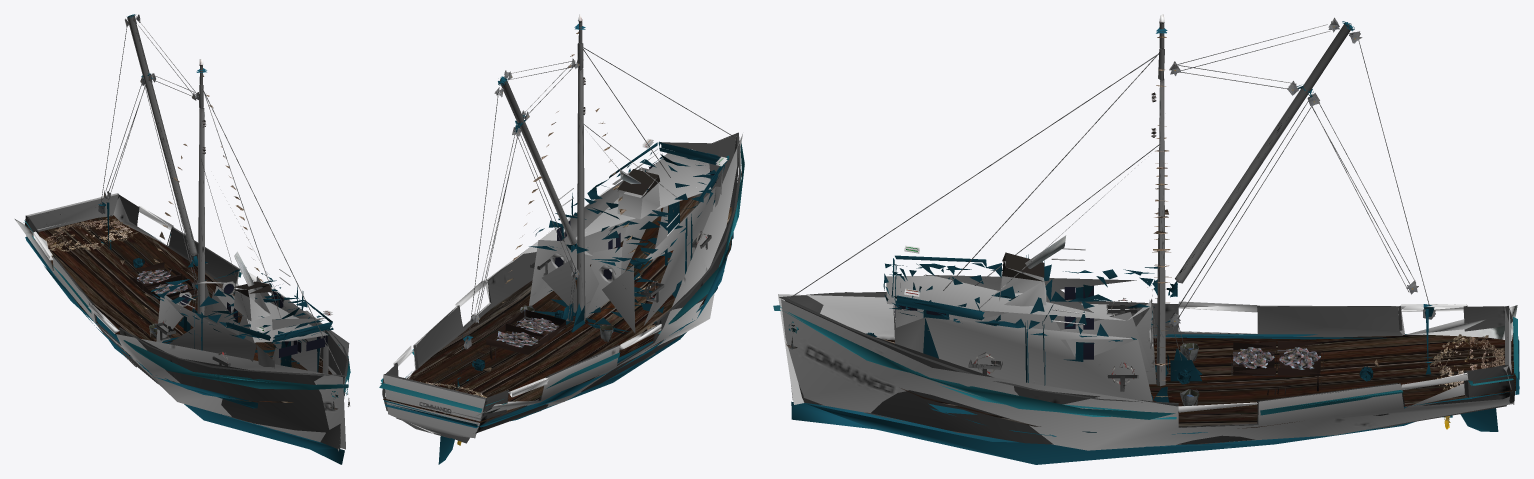
Rendered from pacific-seiner-far.glb.
3 renders of one model, left to right at view 1: azimuth 30°, elevation 25°; view 2: azimuth 150°, elevation 25°; view 3: azimuth 270°, elevation 25°, orthographic. The views are drawn at different scales.
Parts seen in each view (by area): view 1: Object_42, Object_11, Object_40, Object_2, Object_39, Object_18, Object_41, Object_55, Object_22, Object_54, Object_10, Object_53 (+3 smaller); view 2: Object_40, Object_11, Object_42, Object_39, Object_2, Object_55, Object_18, Object_41, Object_54, Object_44, Object_17, Object_10 (+2 smaller); view 3: Object_10, Object_42, Object_40, Object_11, Object_2, Object_39, Object_41, Object_18, Object_55, Object_22, Object_54, Object_44 (+3 smaller).
Part boxes in pixels (box(x1,y1,x2,y2)): Object_42: box(25, 15, 348, 449); Object_11: box(38, 215, 332, 402); Object_40: box(28, 194, 328, 374); Object_2: box(25, 14, 344, 464); Object_39: box(15, 193, 345, 449); Object_18: box(100, 21, 343, 378); Object_41: box(23, 212, 350, 398); Object_55: box(33, 206, 332, 333); Object_22: box(44, 74, 262, 333); Object_54: box(127, 262, 197, 301); Object_10: box(113, 194, 349, 451); Object_53: box(227, 291, 327, 357); Object_40: box(386, 142, 722, 443); Object_11: box(383, 196, 732, 422); Object_42: box(382, 21, 740, 438); Object_39: box(383, 134, 742, 438); Object_2: box(384, 76, 733, 464); Object_55: box(393, 138, 727, 397); Object_18: box(468, 47, 735, 338); Object_41: box(379, 143, 744, 412); Object_54: box(486, 309, 566, 354); Object_44: box(496, 317, 558, 347); Object_17: box(578, 21, 659, 196); Object_10: box(407, 136, 736, 434); Object_10: box(781, 299, 1513, 450); Object_42: box(779, 22, 1515, 444); Object_40: box(886, 274, 1511, 406); Object_11: box(884, 334, 1515, 428); Object_2: box(791, 21, 1519, 464); Object_39: box(778, 294, 1517, 404); Object_41: box(773, 305, 1517, 419); Object_18: box(788, 24, 1429, 360); Object_55: box(904, 245, 1468, 412); Object_22: box(1151, 36, 1504, 397); Object_54: box(1231, 340, 1323, 395); Object_44: box(1233, 347, 1320, 369).
Size of the model in its own units: 5.66 by 10.67 by 17.
31 materials, 28 textured.
